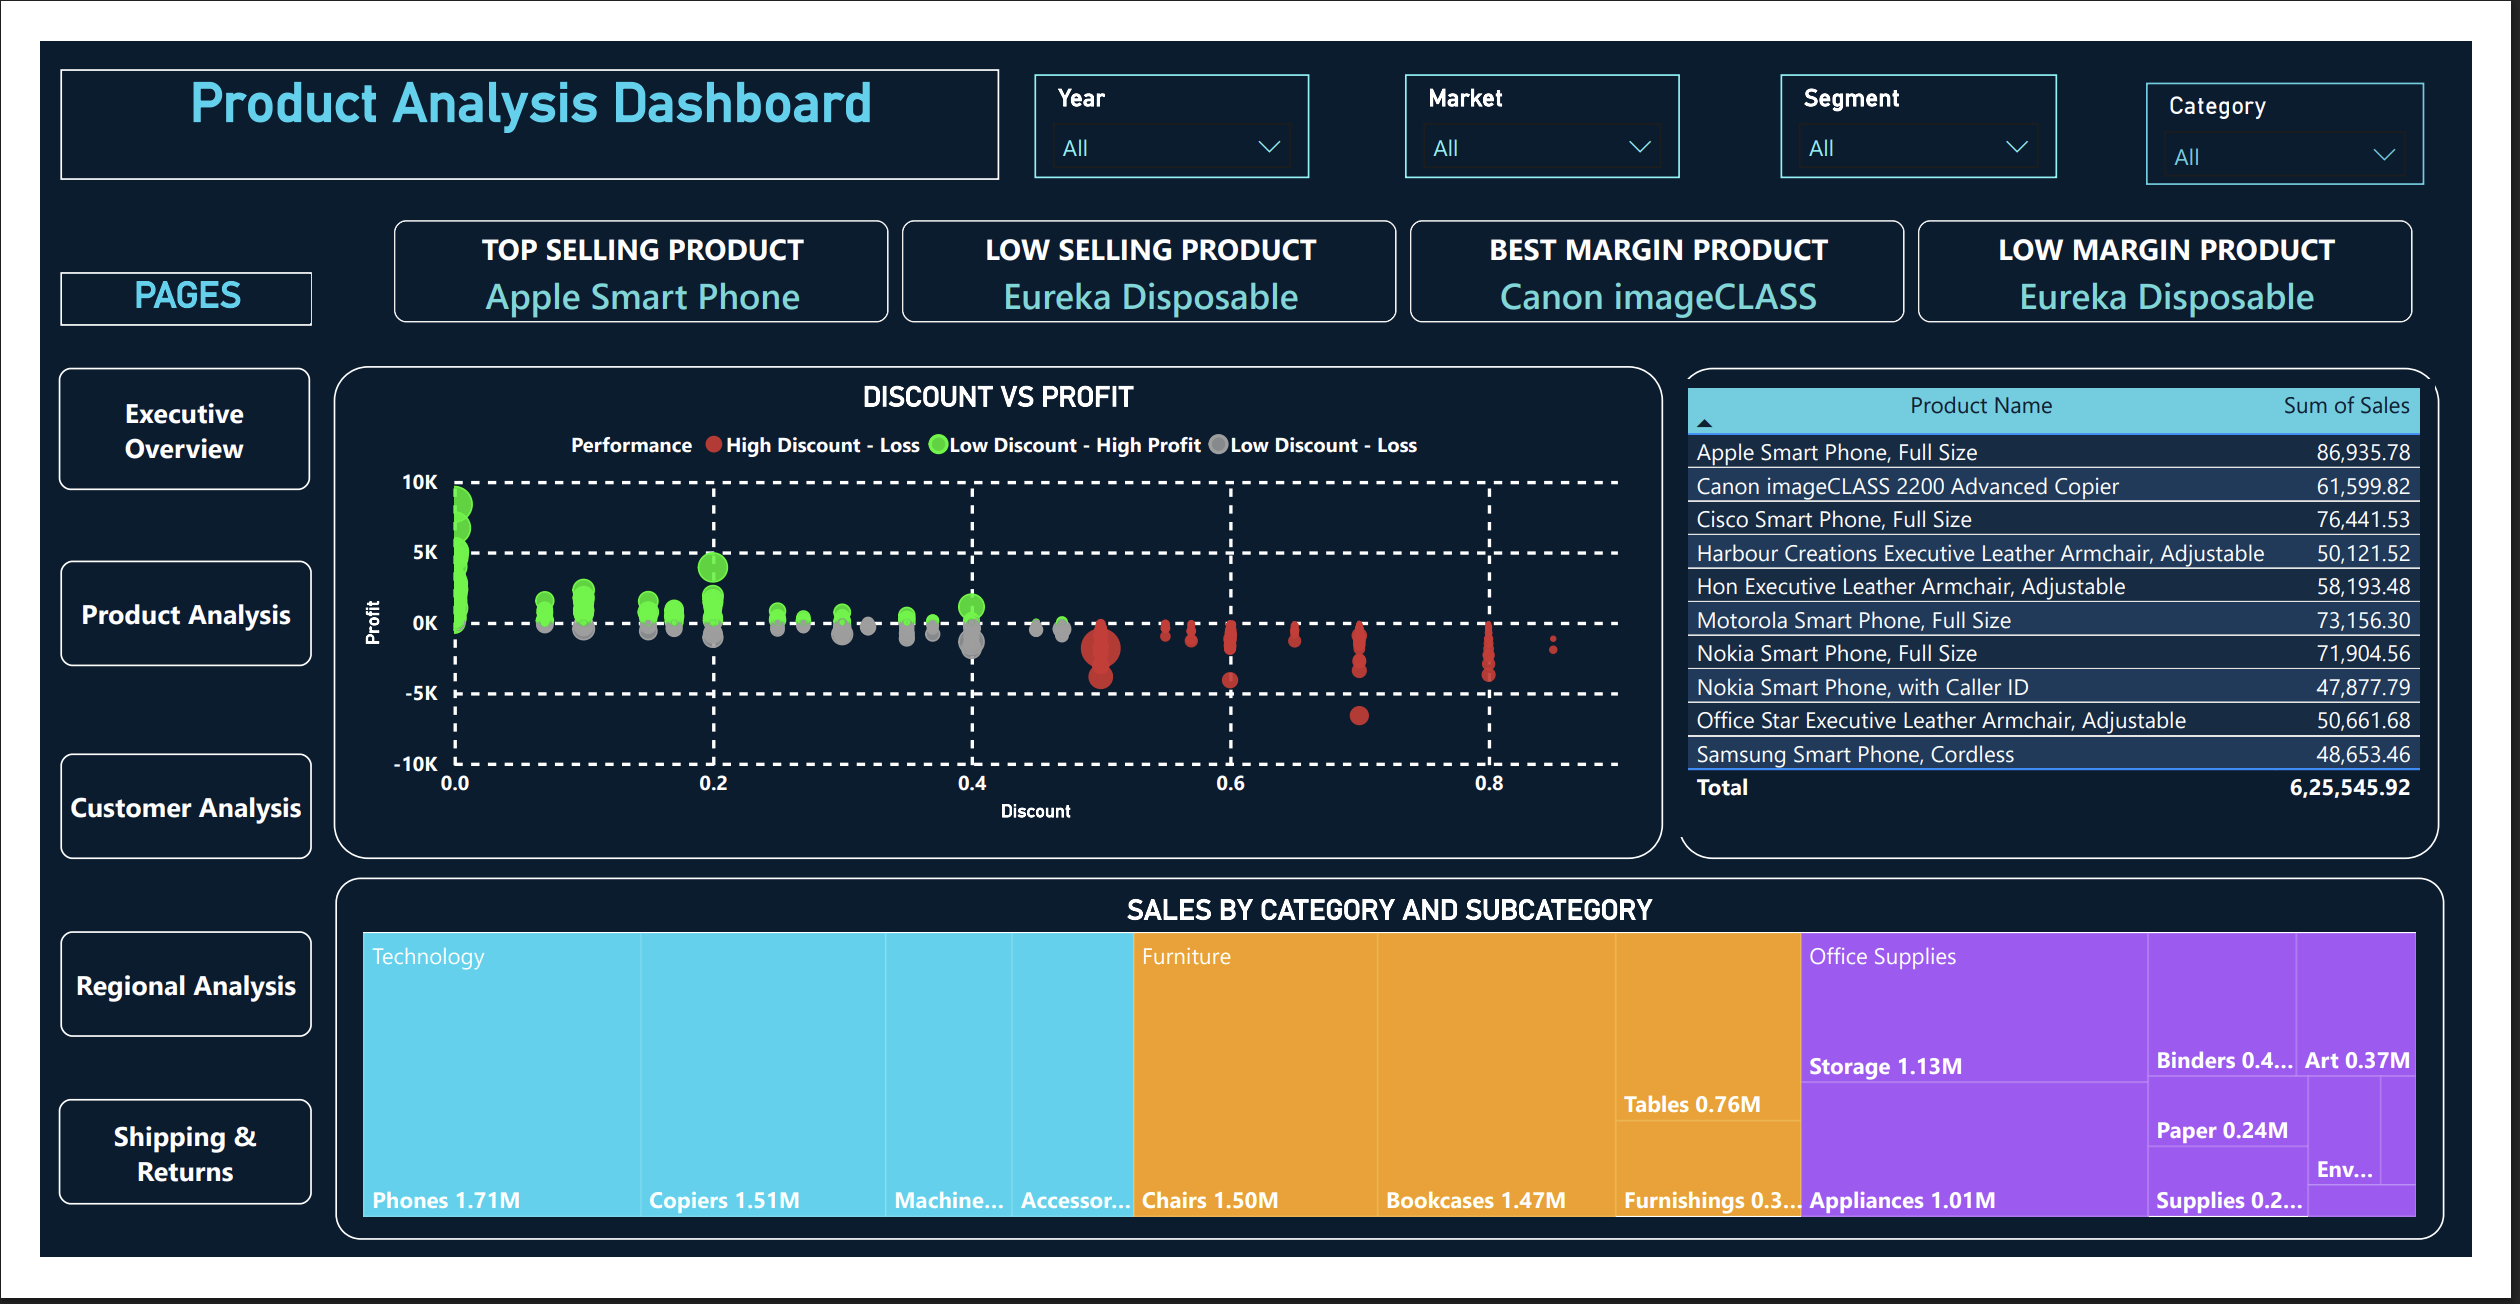

The page's visual inventory and layout, read from the dashboard file:
{"tool":"powerbi","page":{"name":"Page 2","canvas":[1450,725],"ordinal":1},"visuals":[{"type":"shape","box":[176.2,499.3,1257.8,215.5],"z":0},{"type":"treemap","title":"SALES BY CATEGORY AND SUBCATEGORY","fields":{"Group":["Orders.Category"],"Details":["Orders.Sub-Category"],"Values":["Sum(Orders.Sales)"]},"box":[187.8,508.1,1234.5,198],"z":1000},{"type":"shape","box":[976.9,195.1,454.2,292.6],"z":2000},{"type":"tableEx","fields":{"Values":["Orders.Product Name","Sum(Orders.Sales)"]},"box":[976.9,202.4,451.3,272.2],"z":3000},{"type":"shape","box":[174.7,193.6,793.4,294.1],"z":4000},{"type":"scatterChart","title":"DISCOUNT VS PROFIT","fields":{"X":["Orders.Discount"],"Y":["Orders.Profit"],"Size":["Sum(Orders.Sales)"],"Series":["Orders.Performance"]},"box":[187.8,202.4,767.2,267.9],"z":5000},{"type":"textbox","title":"Product Analysis Dashboard","box":[11.6,17.5,560.5,65.5],"z":6000},{"type":"cardVisual","fields":{"Data":["Orders.Top Product Short","Orders.Low Product Short","Orders.Best Margin Product Short","Orders.Low Margin Product Short"]},"box":[193.6,90.3,1240.4,94.6],"z":7000},{"type":"slicer","fields":{"Values":["Orders.Order Date.Variation.Date Hierarchy.Year"]},"box":[592.5,20.4,164.5,61.1],"z":8000},{"type":"slicer","fields":{"Values":["Orders.Market"]},"box":[813.8,20.4,164.5,61.1],"z":9000},{"type":"slicer","fields":{"Values":["Orders.Segment"]},"box":[1038,20.4,164.5,61.1],"z":10000},{"type":"slicer","fields":{"Values":["Orders.Category"]},"box":[1256.4,24.7,166,61.1],"z":11000},{"type":"textbox","title":"PAGES","box":[11.6,138.3,149.9,32],"z":12000},{"type":"actionButton","box":[11.6,310.1,149.9,62.6],"z":13000},{"type":"actionButton","box":[11.6,425.1,149.9,62.6],"z":14000},{"type":"actionButton","box":[11.6,531.4,149.9,62.6],"z":15000},{"type":"actionButton","box":[10.9,631.5,151.2,62.4],"z":16000},{"type":"actionButton","box":[10.9,194.9,149.7,73.3],"z":17000}]}

Visuals, with their boxes on the page's 1450x725 design canvas (x1, y1, x2, y2). These are canvas units, not pixel positions in the 2520x1304 screenshot, which may show the page scaled, cropped or inside an application window:
shape: [left=176, top=499, right=1434, bottom=715]
"SALES BY CATEGORY AND SUBCATEGORY" treemap: [left=188, top=508, right=1422, bottom=706]
shape: [left=977, top=195, right=1431, bottom=488]
tableEx - Orders.Product Name x Sum(Orders.Sales): [left=977, top=202, right=1428, bottom=475]
shape: [left=175, top=194, right=968, bottom=488]
"DISCOUNT VS PROFIT" scatterChart: [left=188, top=202, right=955, bottom=470]
"Product Analysis Dashboard" textbox: [left=12, top=18, right=572, bottom=83]
cardVisual - Orders.Top Product Short x Orders.Low Product Short: [left=194, top=90, right=1434, bottom=185]
slicer - Orders.Order Date.Variation.Date Hierarchy.Year: [left=592, top=20, right=757, bottom=82]
slicer - Orders.Market: [left=814, top=20, right=978, bottom=82]
slicer - Orders.Segment: [left=1038, top=20, right=1202, bottom=82]
slicer - Orders.Category: [left=1256, top=25, right=1422, bottom=86]
"PAGES" textbox: [left=12, top=138, right=162, bottom=170]
actionButton: [left=12, top=310, right=162, bottom=373]
actionButton: [left=12, top=425, right=162, bottom=488]
actionButton: [left=12, top=531, right=162, bottom=594]
actionButton: [left=11, top=632, right=162, bottom=694]
actionButton: [left=11, top=195, right=161, bottom=268]
